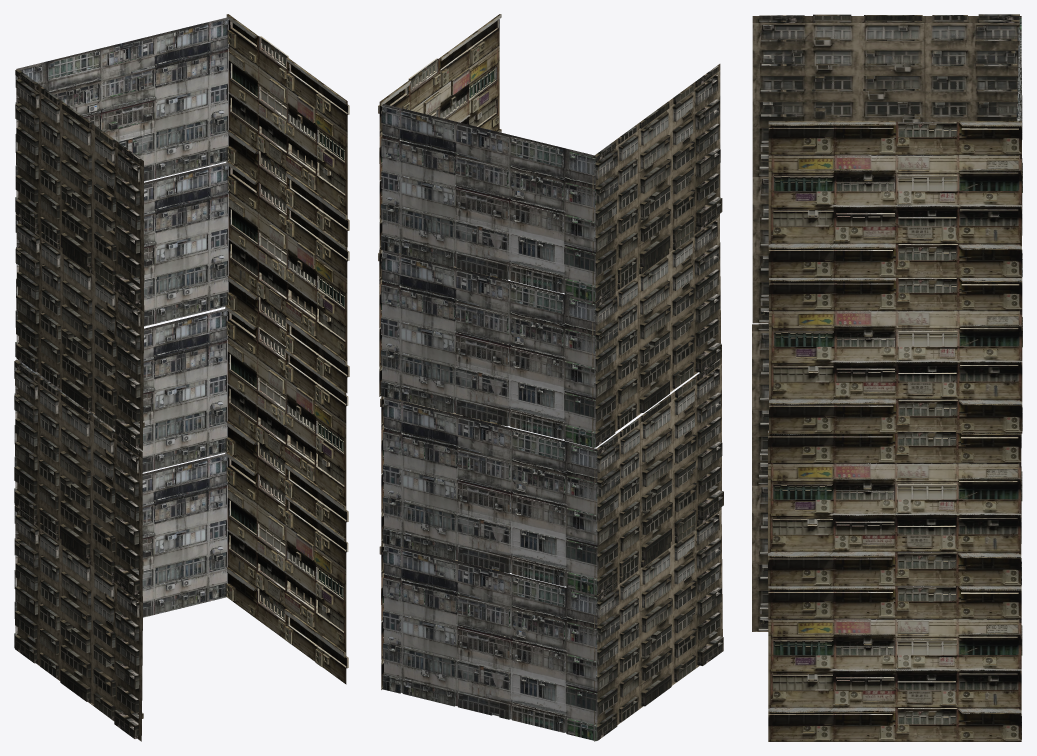
The model's file is env-hk-alley.glb.
The picture shows the model from 3 angles, left to right: view 1: azimuth 30°, elevation 25°; view 2: azimuth 150°, elevation 25°; view 3: azimuth 270°, elevation 25°; orthographic projection. The views are drawn at different scales.
Parts seen in each view (by area): view 1: Material2 (×3); view 2: Material2 (×3); view 3: Material2 (×3).
Part boxes in pixels (<box>): Material2 (×3): <box>14,14,349,741</box>; Material2 (×3): <box>378,14,723,741</box>; Material2 (×3): <box>752,14,1022,741</box>.
Bounding box in the file's own units: 246 × 620 × 245.
Materials: 4 (3 with a texture image).
